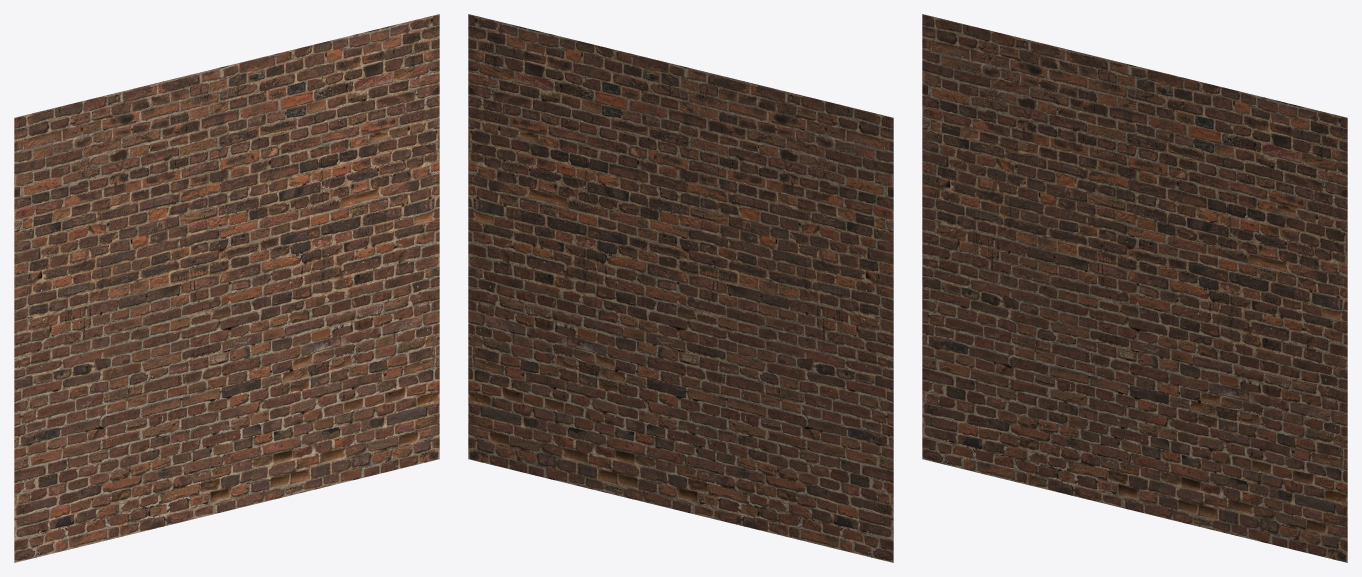
File: factory-wall.glb
3 views of the same model, side by side, from view 1: azimuth 30°, elevation 25°; view 2: azimuth 150°, elevation 25°; view 3: azimuth 330°, elevation 25° (orthographic).
Parts seen in each view (by area): view 1: wall_standard_standard_01; view 2: wall_standard_standard_01; view 3: wall_standard_standard_01.
Boxes of the visible parts, left/top/right/bottom form: wall_standard_standard_01: left=14, top=14, right=439, bottom=562; wall_standard_standard_01: left=468, top=14, right=893, bottom=562; wall_standard_standard_01: left=922, top=14, right=1347, bottom=562.
Bounding box in the file's own units: 3 × 3 × 0.
Materials: 1 (1 with a texture image).
